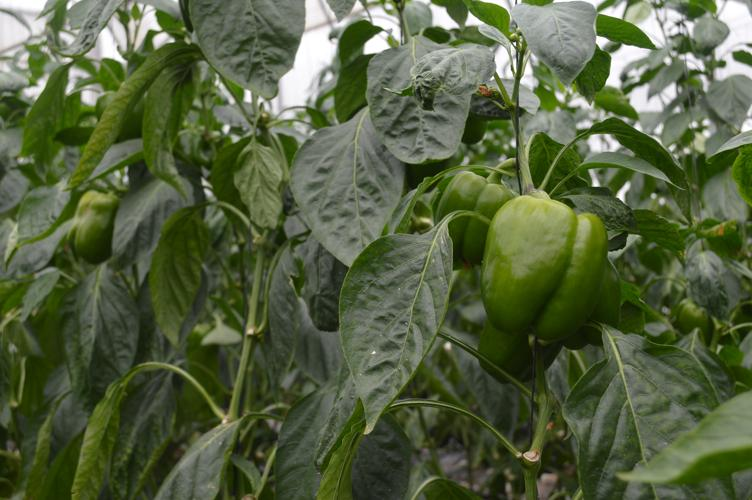BellPepper: (485, 181, 605, 348), (468, 308, 559, 409), (54, 185, 150, 264), (430, 160, 511, 252)
